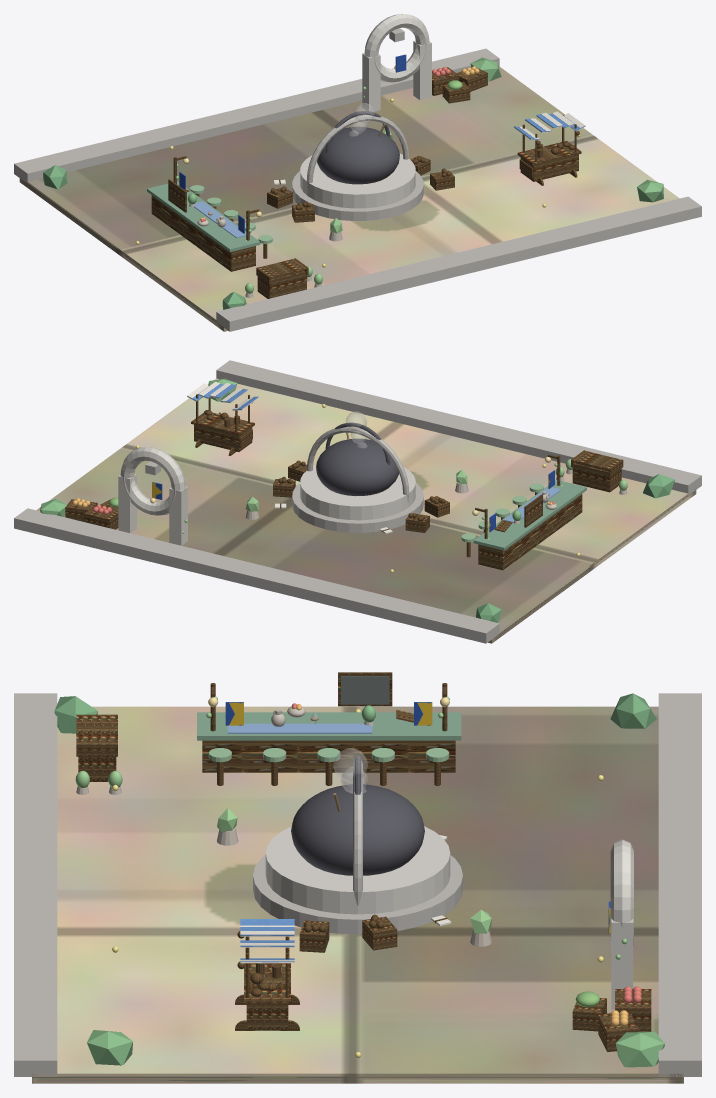
The model's file is restaurant_v1_tex.glb.
3 renders of one model, top to bottom at view 1: azimuth 30°, elevation 25°; view 2: azimuth 150°, elevation 25°; view 3: azimuth 270°, elevation 25°, orthographic. The views are drawn at different scales.
Visible parts, largest first — view 1: ground, border_-1, border_1, cauldron, hearth, bar_counter, arch_top, hearth_base, bar_top, hearth_rim, arch_pillar_-1, displaycase_body (+6 smaller); view 2: ground, border_1, border_-1, cauldron, hearth, arch_top, bar_counter, hearth_base, bar_top, hearth_rim, arch_pillar_-1, displaycase_body (+6 smaller); view 3: ground, border_-1, border_1, cauldron, hearth, bar_counter, bar_top, hearth_base, arch_top, arch_pillar_1, bar_runner, bush_3 (+15 smaller).
Part boxes in pixels (x1,y1,x2,y2): ground: (19, 66, 679, 331); border_-1: (216, 196, 701, 331); border_1: (14, 48, 499, 183); cauldron: (317, 126, 399, 184); hearth: (300, 153, 415, 208); bar_counter: (151, 195, 255, 271); arch_top: (364, 14, 429, 82); hearth_base: (292, 171, 423, 220); bar_top: (147, 181, 260, 251); hearth_rim: (306, 115, 409, 190); arch_pillar_-1: (362, 53, 380, 111); displaycase_body: (257, 270, 306, 298); ground: (36, 378, 696, 643); border_1: (14, 508, 499, 643); border_-1: (216, 360, 701, 495); cauldron: (316, 438, 398, 496); hearth: (300, 465, 415, 520); arch_top: (120, 447, 185, 515); bar_counter: (478, 494, 582, 570); hearth_base: (292, 483, 423, 532); bar_top: (473, 479, 586, 550); hearth_rim: (306, 426, 409, 502); arch_pillar_-1: (169, 486, 187, 545); displaycase_body: (572, 462, 621, 492); ground: (32, 706, 683, 1083); border_-1: (14, 693, 57, 1076); border_1: (658, 693, 701, 1076); cauldron: (291, 784, 424, 875); hearth: (265, 826, 450, 914); bar_counter: (202, 740, 455, 772); bar_top: (197, 712, 461, 740); hearth_base: (253, 855, 462, 934); arch_top: (610, 839, 633, 945); arch_pillar_1: (611, 919, 633, 1009); bar_runner: (227, 723, 372, 733); bush_3: (615, 1031, 664, 1067).
Bounding box in the file's own units: 24 × 5.82 × 19.
27 materials, 4 textured.
